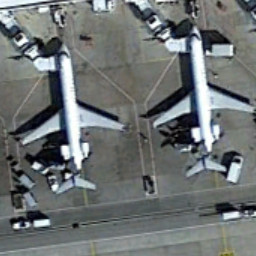Airplane: (6, 33, 131, 204), (141, 14, 256, 181)
